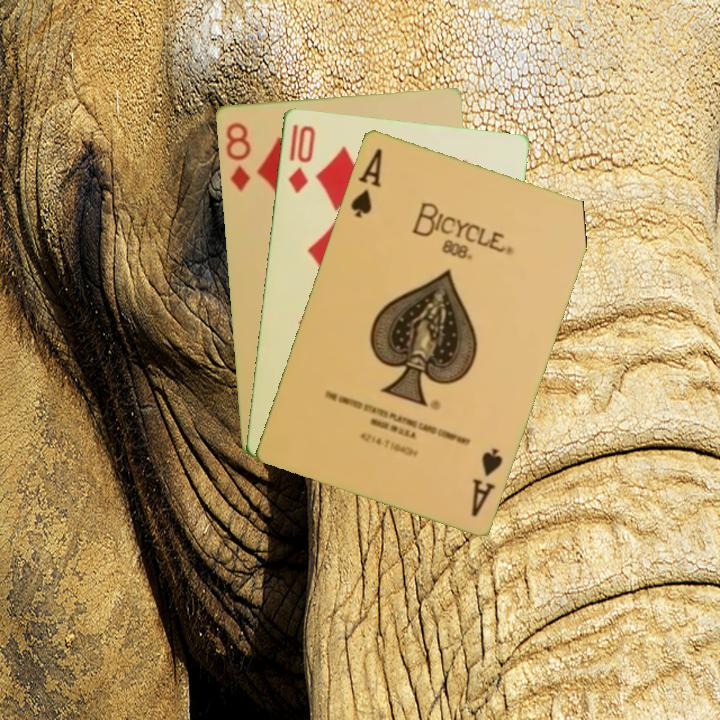10d: (284, 120, 318, 195)
8d: (222, 118, 253, 194)
As: (346, 144, 385, 220), (467, 444, 506, 520)
